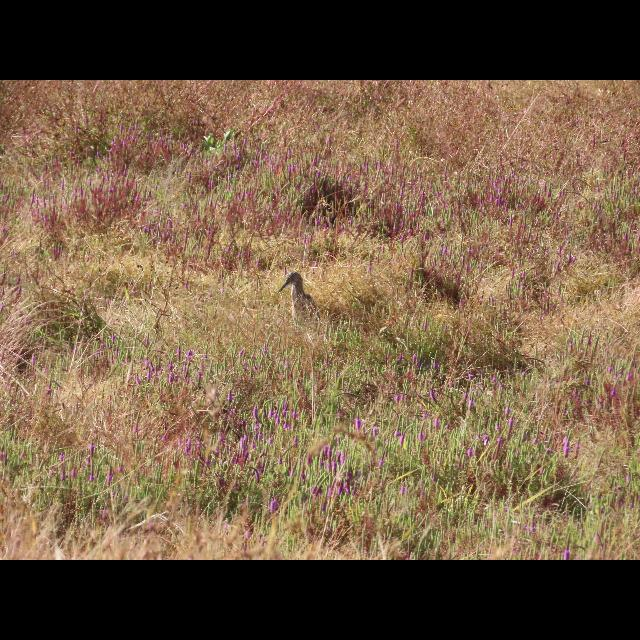heron: (272, 266, 322, 330)
